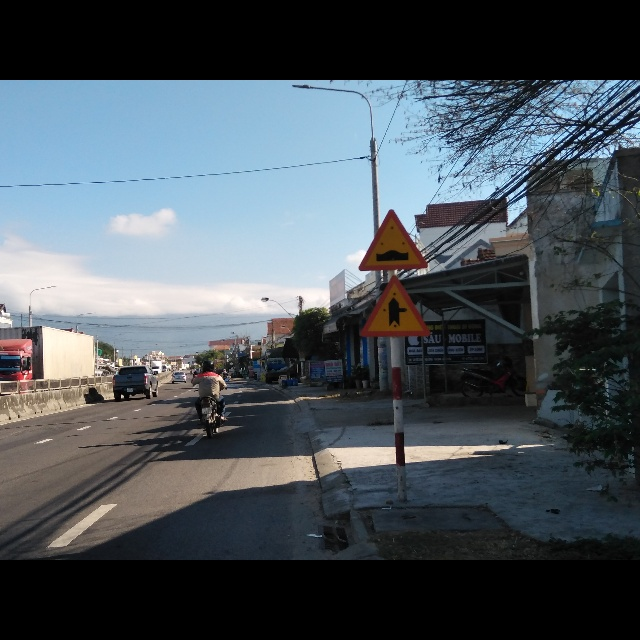Giao nhau với đường không ưu tiên: (357, 274, 432, 337)
Đường không bằng phẳng: (358, 205, 428, 271)
